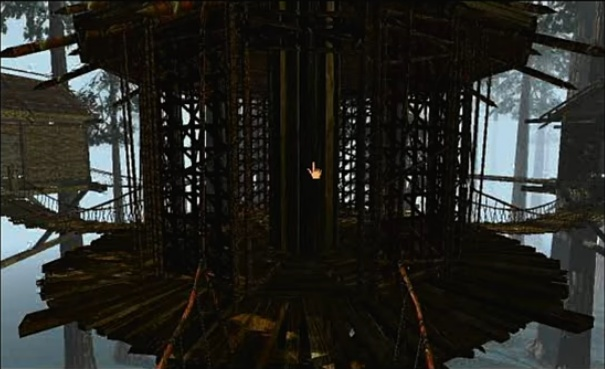Pointer: (303, 157, 326, 182)
